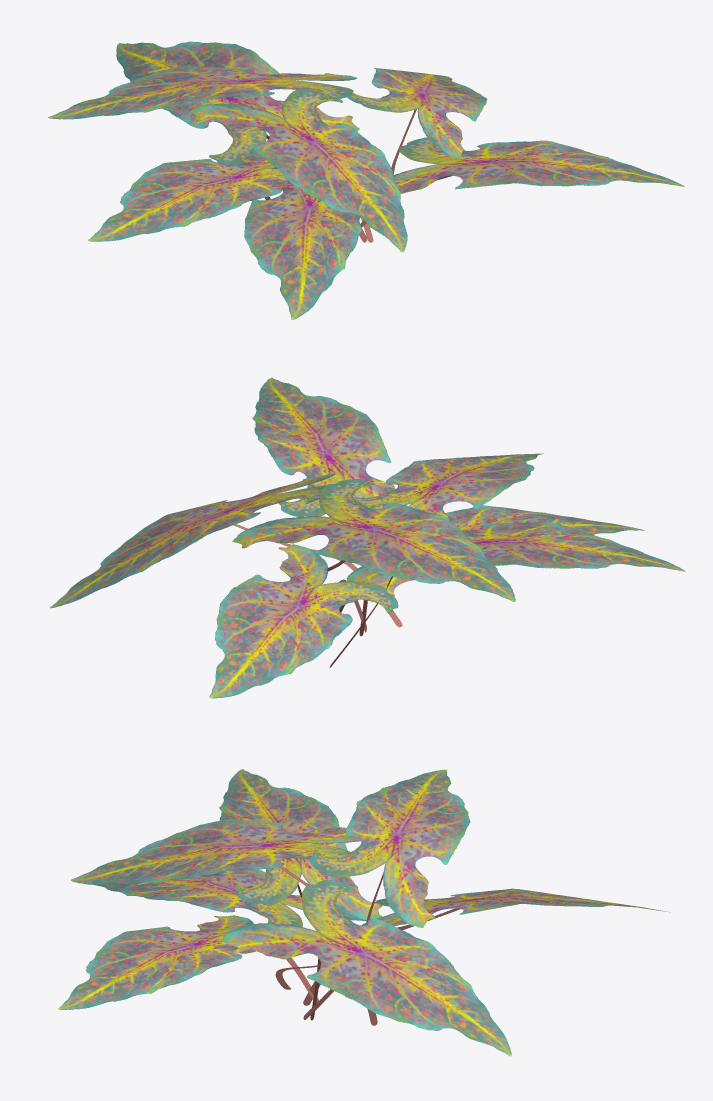
File: Sickle Wort 4.fbx
3 renders of one model, top to bottom at view 1: azimuth 30°, elevation 25°; view 2: azimuth 150°, elevation 25°; view 3: azimuth 270°, elevation 25°, orthographic. The views are drawn at different scales.
Parts seen in each view (by area): view 1: Sickle Wort 4; view 2: Sickle Wort 4; view 3: Sickle Wort 4.
Part boxes in pixels (x1,y1,x2,y2): Sickle Wort 4: (48, 41, 684, 319); Sickle Wort 4: (50, 377, 685, 698); Sickle Wort 4: (58, 769, 669, 1056).
Size of the model in its own units: 235 by 66.56 by 256.
